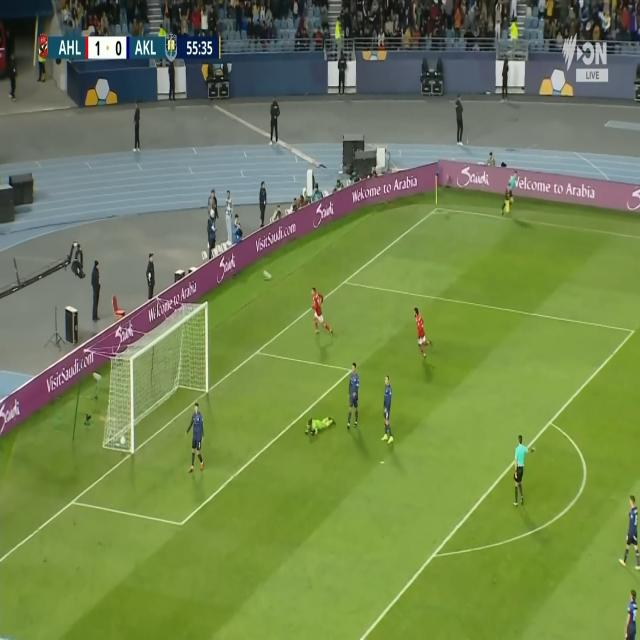Ball: (120, 434, 127, 449)
Keeper: (304, 415, 336, 441)
Player: (618, 492, 640, 574), (307, 285, 336, 341), (186, 401, 206, 476), (345, 361, 362, 432), (412, 307, 432, 359), (381, 371, 395, 444), (623, 585, 640, 640)
Ref: (513, 436, 537, 510), (501, 170, 519, 218)
